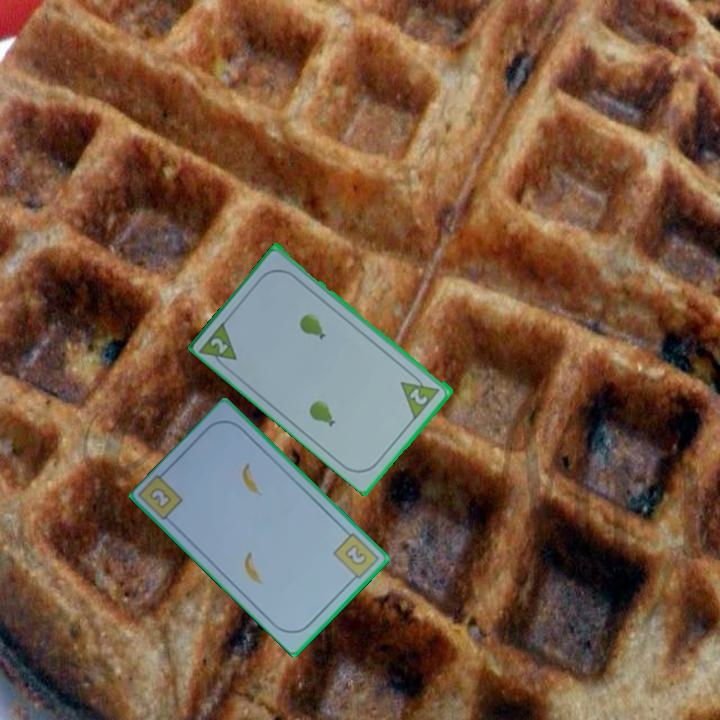2b: (329, 529, 381, 586), (146, 484, 175, 512)
2p: (397, 368, 443, 421), (207, 334, 231, 357)
